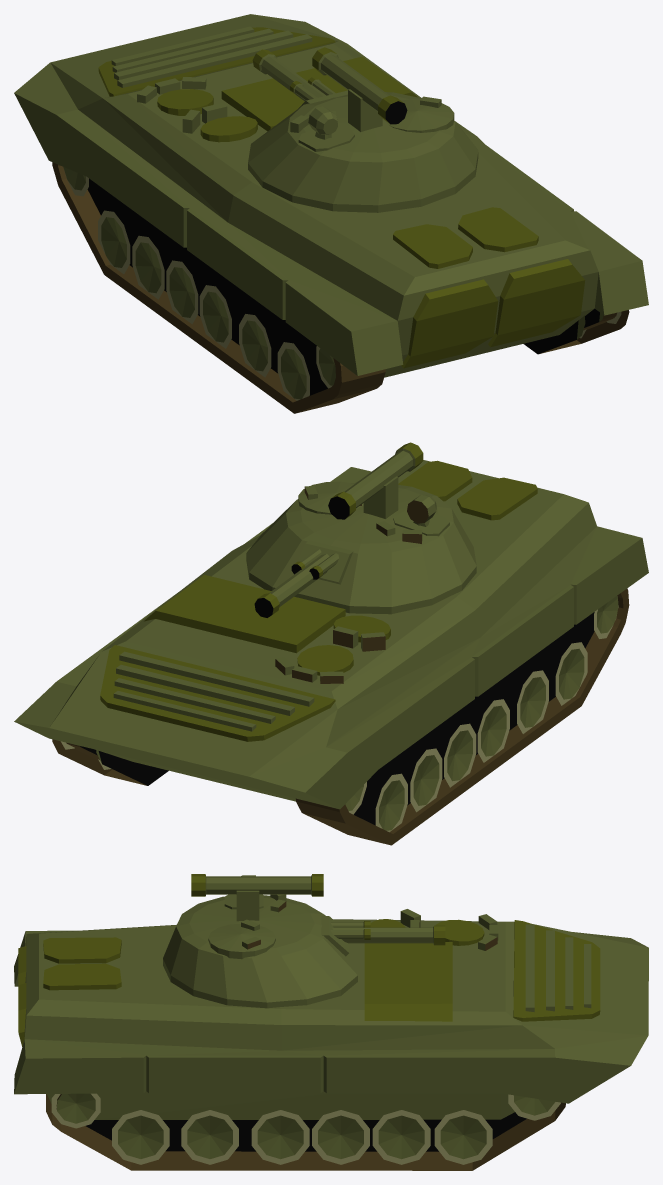
Rendered from bmp2.glb.
3 views of the same model, one above another, from view 1: azimuth 30°, elevation 25°; view 2: azimuth 150°, elevation 25°; view 3: azimuth 270°, elevation 25° (orthographic). The views are drawn at different scales.
Visible parts, largest first — view 1: hull.002, BMP2_hull.002; view 2: hull.002, BMP2_hull.002; view 3: hull.002, BMP2_hull.002.
Part boxes in pixels (x1=…): hull.002: x1=14, y1=14, x2=648, y2=413; BMP2_hull.002: x1=248, y1=47, x2=478, y2=212; hull.002: x1=14, y1=460, x2=648, y2=845; BMP2_hull.002: x1=246, y1=442, x2=476, y2=617; hull.002: x1=14, y1=909, x2=648, y2=1170; BMP2_hull.002: x1=163, y1=874, x2=445, y2=1008.
Bounding box in the file's own units: 0.4757 × 0.3978 × 1.
